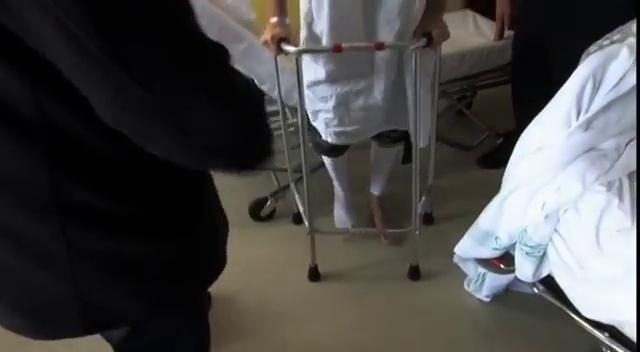others: (0, 0, 274, 350)
patient: (259, 0, 450, 242)
